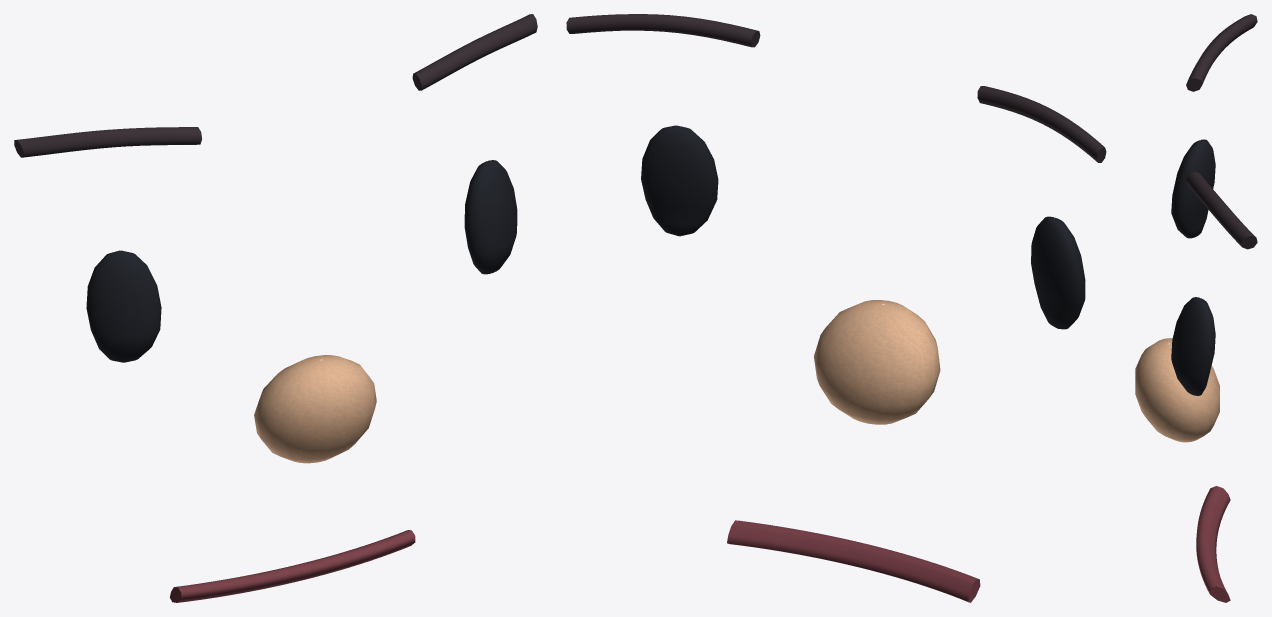
Rendered from face_stoic.gltf.
The picture shows the model from 3 angles, left to right: view 1: azimuth 30°, elevation 25°; view 2: azimuth 150°, elevation 25°; view 3: azimuth 270°, elevation 25°; orthographic projection. The views are drawn at different scales.
Parts seen in each view (by area): view 1: Stone Calm; view 2: Stone Calm; view 3: Stone Calm.
Boxes of the visible parts, x1=… form: Stone Calm: x1=14, y1=14, x2=537, y2=602; Stone Calm: x1=566, y1=14, x2=1106, y2=602; Stone Calm: x1=1135, y1=14, x2=1257, y2=602.
Bounding box in the file's own units: 0.256 × 0.2335 × 0.0597.
4 materials, 4 textured.
